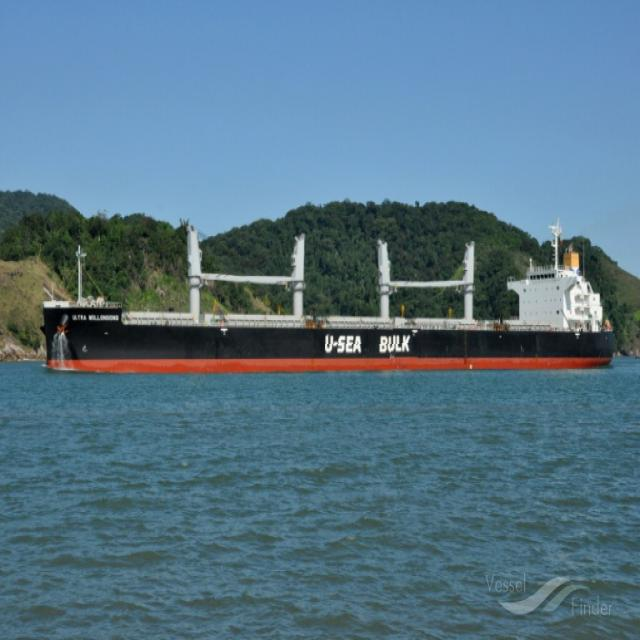OCR: (326, 328, 422, 366)
